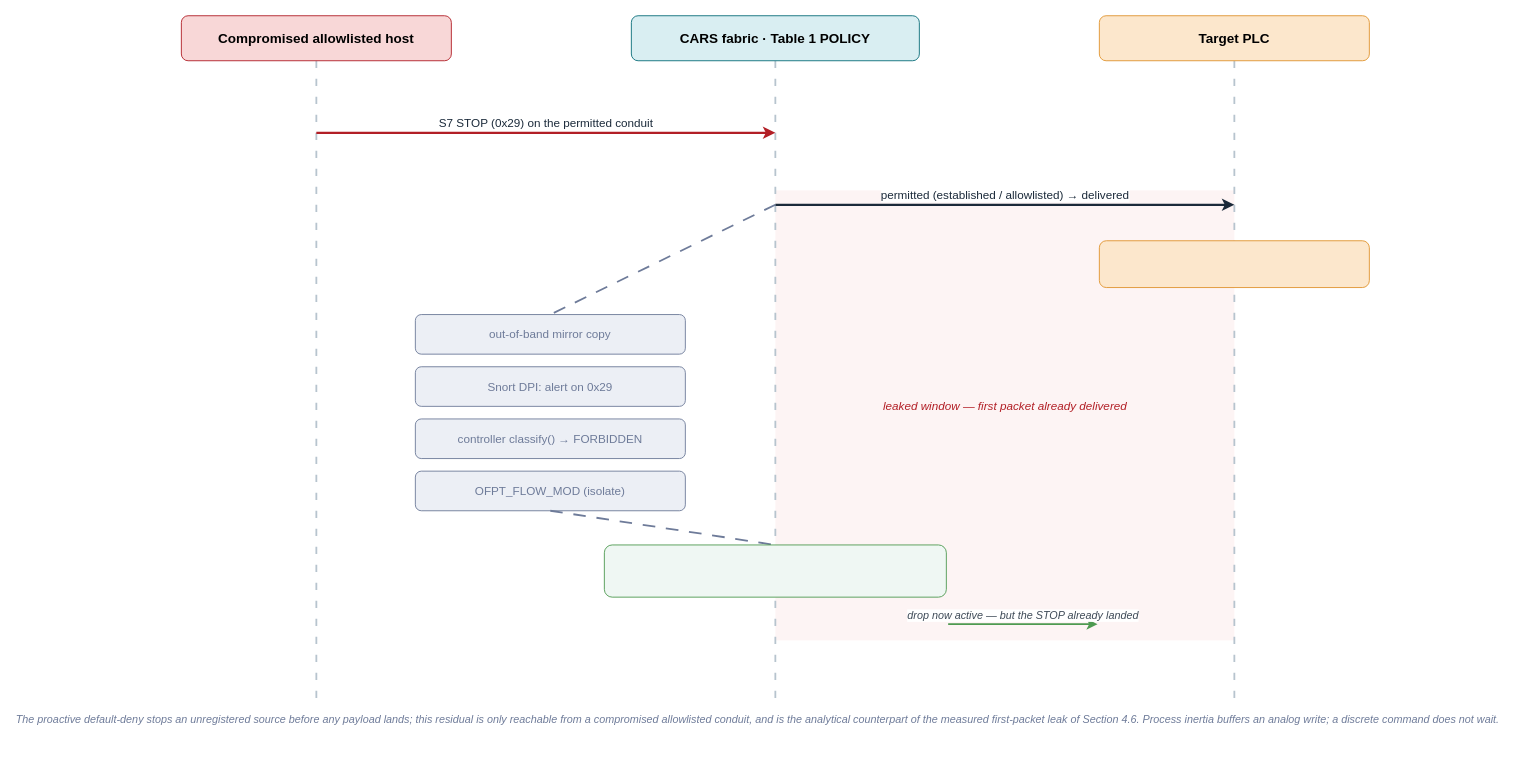
This 1514x777 diagram has some shape labels left out. Each missing label, with the centre of its shape:
"reactive drop installed Table 1, priority 110, cookie 0x00ca" goes at point (774, 570).
"state change taken on receipt" goes at point (1233, 264).
